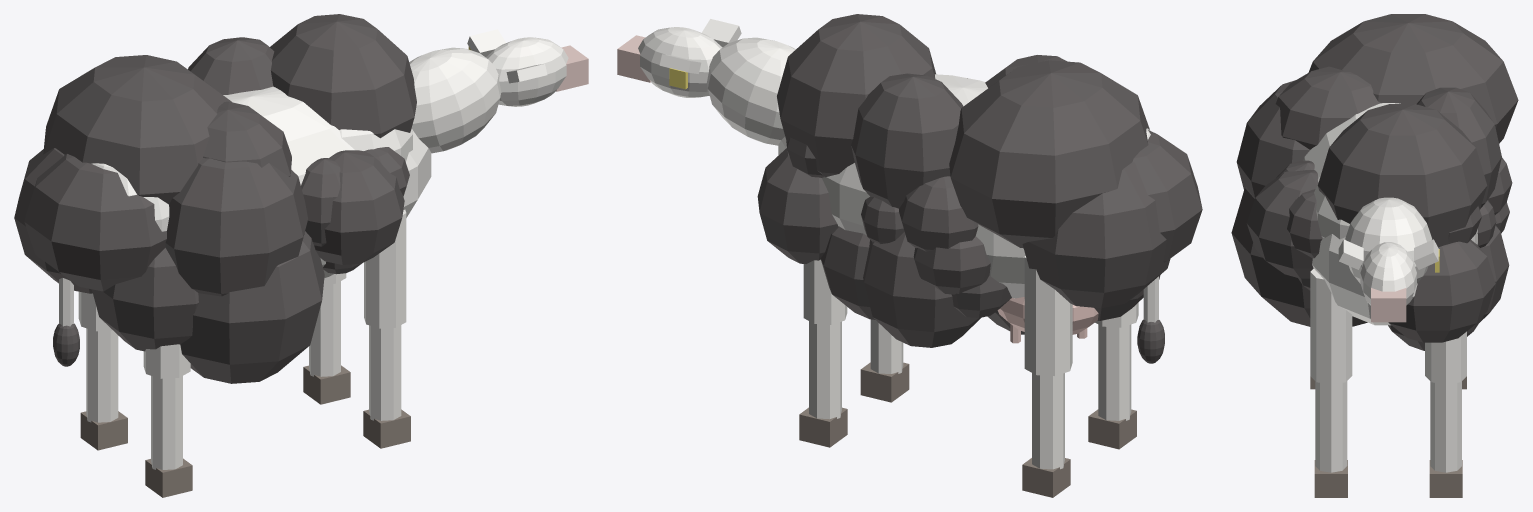
File: cow.glb
3 views of the same model, side by side, from view 1: azimuth 30°, elevation 25°; view 2: azimuth 150°, elevation 25°; view 3: azimuth 270°, elevation 25° (orthographic). The views are drawn at different scales.
Parts seen in each view (by area): view 1: Spots_C, Spots_A, Spots_D, NeckMesh, Torso, HeadMesh, Shin_FR, Shin_BL, Shin_BR, Shin_FL, Thigh_FR, Spots_B (+5 smaller); view 2: Spots_A, Spots_C, Spots_D, Spots_B, NeckMesh, HeadMesh, Torso, Shin_BR, Shin_FL, Shin_BL, Thigh_BL, Shin_FR (+3 smaller); view 3: Spots_A, Spots_C, Spots_D, HeadMesh, Thigh_FR, Shin_FR, Shin_FL, NeckMesh, Torso, Spots_B, Thigh_FL, Withers.
Boxes of the visible parts, left/top/right/bottom form: Spots_C: left=24, top=55, right=324, bottom=383; Spots_A: left=14, top=14, right=416, bottom=351; Spots_D: left=188, top=37, right=409, bottom=264; NeckMesh: left=409, top=47, right=501, bottom=153; Torso: left=223, top=86, right=431, bottom=278; HeadMesh: left=467, top=29, right=588, bottom=106; Shin_FR: left=363, top=325, right=410, bottom=448; Shin_BL: left=80, top=328, right=127, bottom=450; Shin_BR: left=145, top=376, right=192, bottom=497; Shin_FL: left=303, top=281, right=350, bottom=404; Thigh_FR: left=364, top=209, right=406, bottom=328; Spots_B: left=301, top=158, right=361, bottom=274; Spots_A: left=757, top=14, right=1170, bottom=347; Spots_C: left=949, top=60, right=1202, bottom=334; Spots_D: left=851, top=55, right=1067, bottom=208; Spots_B: left=786, top=137, right=1011, bottom=317; NeckMesh: left=707, top=37, right=795, bottom=145; HeadMesh: left=617, top=19, right=741, bottom=97; Torso: left=778, top=74, right=1025, bottom=298; Shin_BR: left=1088, top=324, right=1136, bottom=449; Shin_FL: left=799, top=321, right=847, bottom=447; Shin_BL: left=1022, top=373, right=1070, bottom=497; Thigh_BL: left=1024, top=256, right=1072, bottom=375; Shin_FR: left=860, top=319, right=909, bottom=402; Spots_A: left=1317, top=104, right=1509, bottom=350; Spots_C: left=1231, top=14, right=1518, bottom=326; Spots_D: left=1246, top=66, right=1501, bottom=278; HeadMesh: left=1338, top=239, right=1439, bottom=322; Thigh_FR: left=1310, top=268, right=1352, bottom=384; Shin_FR: left=1314, top=381, right=1347, bottom=497; Shin_FL: left=1429, top=381, right=1462, bottom=497; NeckMesh: left=1345, top=197, right=1432, bottom=283; Torso: left=1303, top=103, right=1477, bottom=325; Spots_B: left=1276, top=157, right=1512, bottom=290; Thigh_FL: left=1425, top=331, right=1466, bottom=384; Withers: left=1314, top=185, right=1349, bottom=239.
Size of the model in its own units: 2.72 by 1.87 by 1.3.
